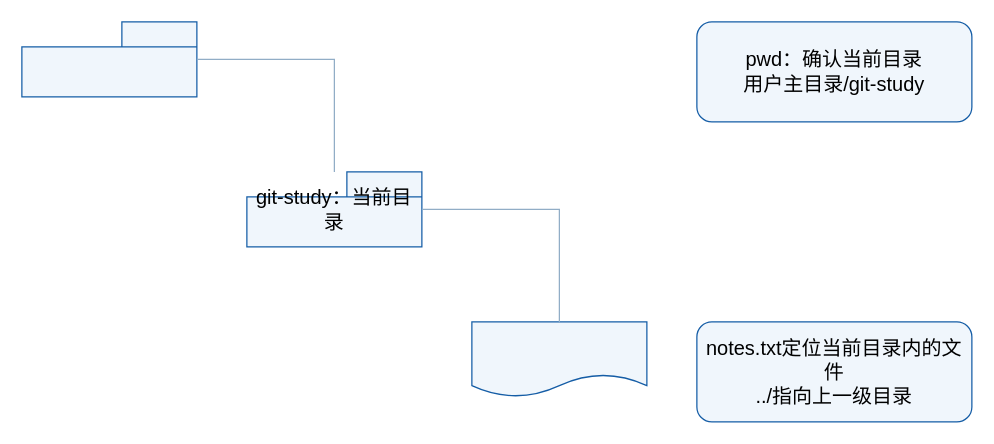
Some shapes in this 994 by 444 pixel diagram are drawn without their labels. Each missing label, with the centre of its shape:
notes.txt: the point at 559,359
用户主目录: the point at 109,59
